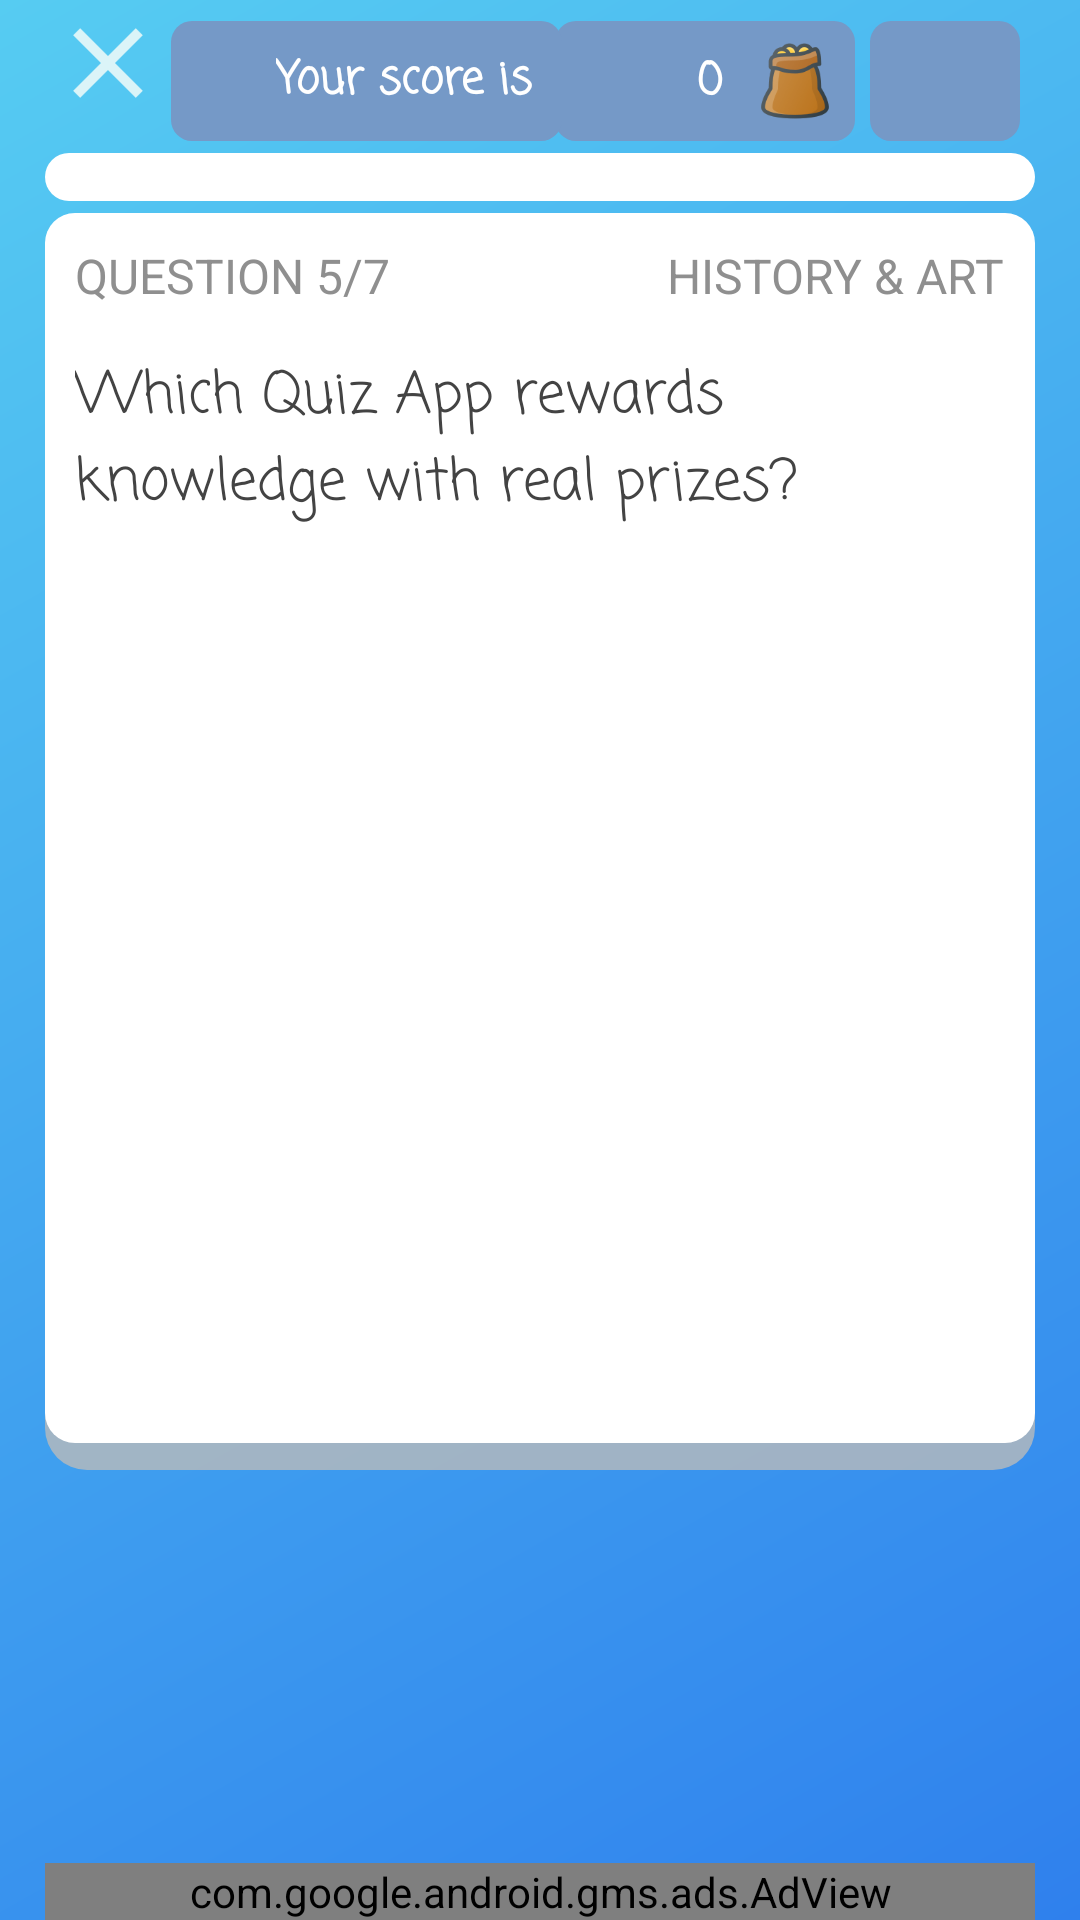

Where to tap for icons on this 1080×1920 app screen, as (x,y):
close: (108,63)
coins: (795,81)
